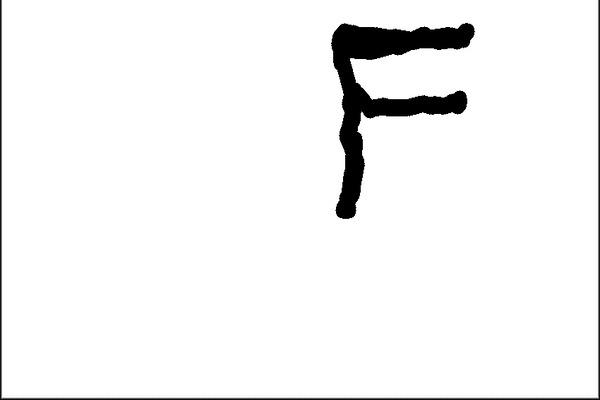F: (322, 18, 480, 227)
